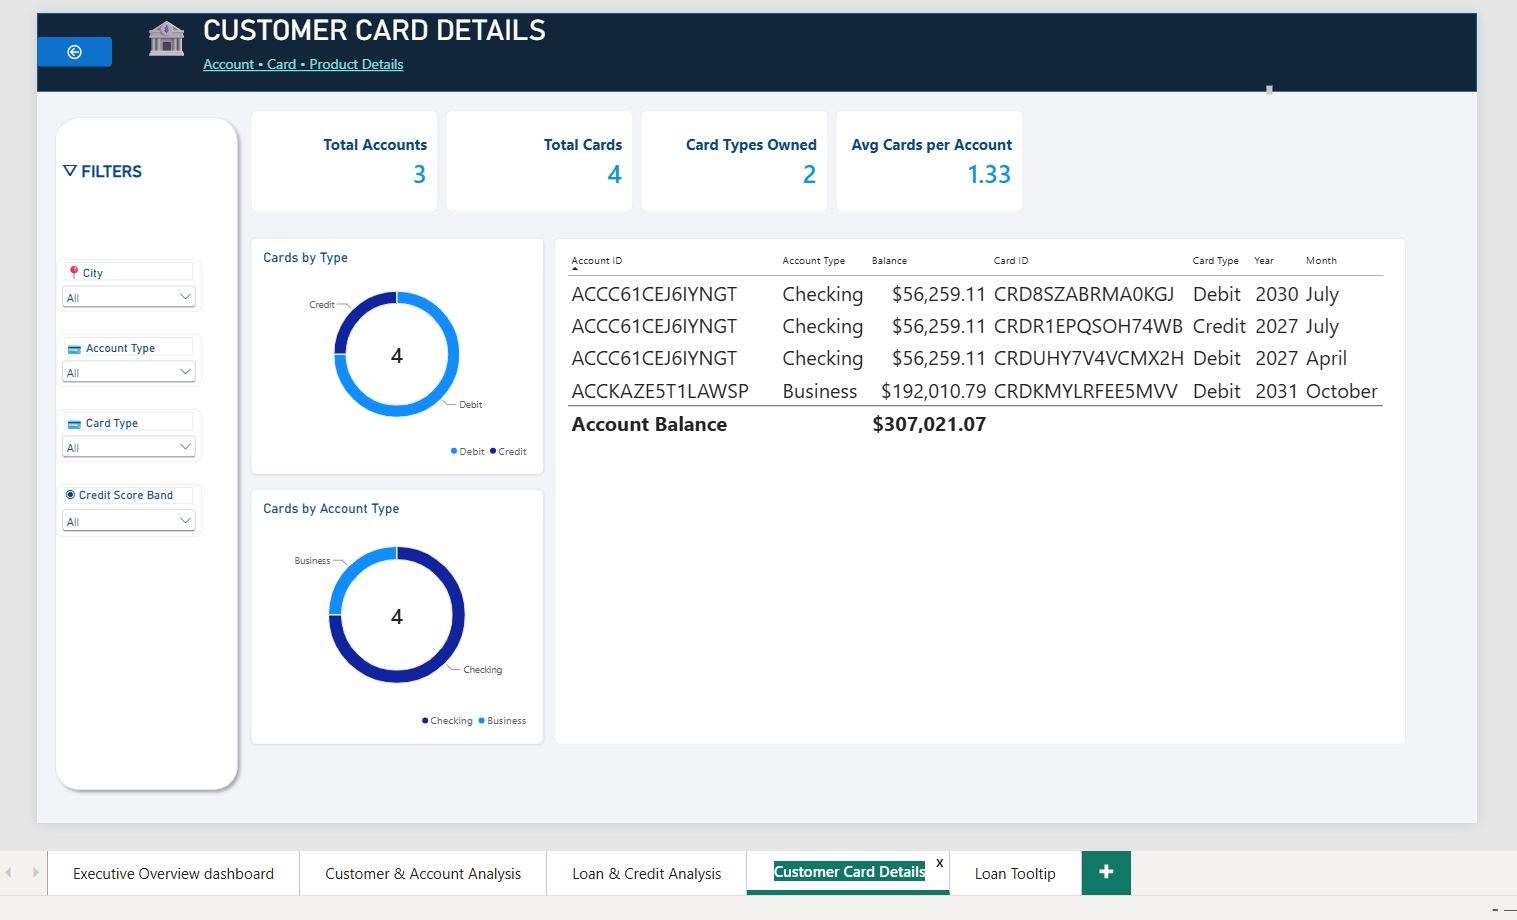

What the dashboard file says about the page in this screenshot:
{"tool":"powerbi","page":{"name":"Customer Card Details","canvas":[1920,1080],"ordinal":3},"visuals":[{"type":"shape","box":[0,0,1920,105],"z":0},{"type":"textbox","title":"CUSTOMER CARD DETAILS","box":[221.8,0,1425.9,108.7],"z":1000},{"type":"shape","box":[14.3,130.6,261.3,914.5],"z":2000},{"type":"textbox","title":"▽  FILTERS","box":[34,198,176,40],"z":3000},{"type":"textbox","box":[140,0,82.6,71.7],"z":4000},{"type":"slicer","fields":{"Values":["customers.city"]},"box":[25,328,195,70],"z":5000},{"type":"cardVisual","fields":{"Data":["analysis.Total Accounts"]},"box":[285,130,250,135],"z":6000},{"type":"cardVisual","fields":{"Data":["analysis.Total Cards"]},"box":[545,130,250,135],"z":7000},{"type":"cardVisual","fields":{"Data":["analysis.Avg Cards per Account"]},"box":[1065,130,250,135],"z":8000},{"type":"cardVisual","fields":{"Data":["analysis.Card Types Owned"]},"box":[805,130,250,135],"z":9000},{"type":"slicer","fields":{"Values":["accounts.account_type"]},"box":[25,428,195,70],"z":10000},{"type":"slicer","fields":{"Values":["cards.card_type"]},"box":[25,528,195,70],"z":11000},{"type":"slicer","fields":{"Values":["customers.Credit Score Band"]},"box":[25,628,195,70],"z":12000},{"type":"actionButton","box":[0,32,100,40],"z":14000},{"type":"donutChart","title":"Cards by Type","fields":{"Category":["cards.card_type"],"Y":["analysis.Total Cards"]},"box":[285,300,390,315],"z":15000},{"type":"donutChart","title":"Cards by Account Type","fields":{"Category":["accounts.account_type"],"Y":["analysis.Total Cards"]},"box":[285,635,390,340],"z":16000},{"type":"tableEx","fields":{"Values":["accounts.account_id","accounts.account_type","Sum(accounts.balance_usd)","cards.card_id","cards.card_type","cards.expiration_date.Variation.Date Hierarchy.Year","cards.expiration_date.Variation.Date Hierarchy.Month"]},"box":[690,300,1135,675],"z":17000}]}

Visuals, with their boxes on the page's 1920x1080 design canvas (x1, y1, x2, y2). These are canvas units, not pixel positions in the 1517x920 screenshot, which may show the page scaled, cropped or inside an application window:
shape: [0, 0, 1920, 105]
"CUSTOMER CARD DETAILS" textbox: [222, 0, 1648, 109]
shape: [14, 131, 276, 1045]
"▽  FILTERS" textbox: [34, 198, 210, 238]
textbox: [140, 0, 223, 72]
slicer - customers.city: [25, 328, 220, 398]
cardVisual - analysis.Total Accounts: [285, 130, 535, 265]
cardVisual - analysis.Total Cards: [545, 130, 795, 265]
cardVisual - analysis.Avg Cards per Account: [1065, 130, 1315, 265]
cardVisual - analysis.Card Types Owned: [805, 130, 1055, 265]
slicer - accounts.account_type: [25, 428, 220, 498]
slicer - cards.card_type: [25, 528, 220, 598]
slicer - customers.Credit Score Band: [25, 628, 220, 698]
actionButton: [0, 32, 100, 72]
"Cards by Type" donutChart: [285, 300, 675, 615]
"Cards by Account Type" donutChart: [285, 635, 675, 975]
tableEx - accounts.account_id x accounts.account_type: [690, 300, 1825, 975]
